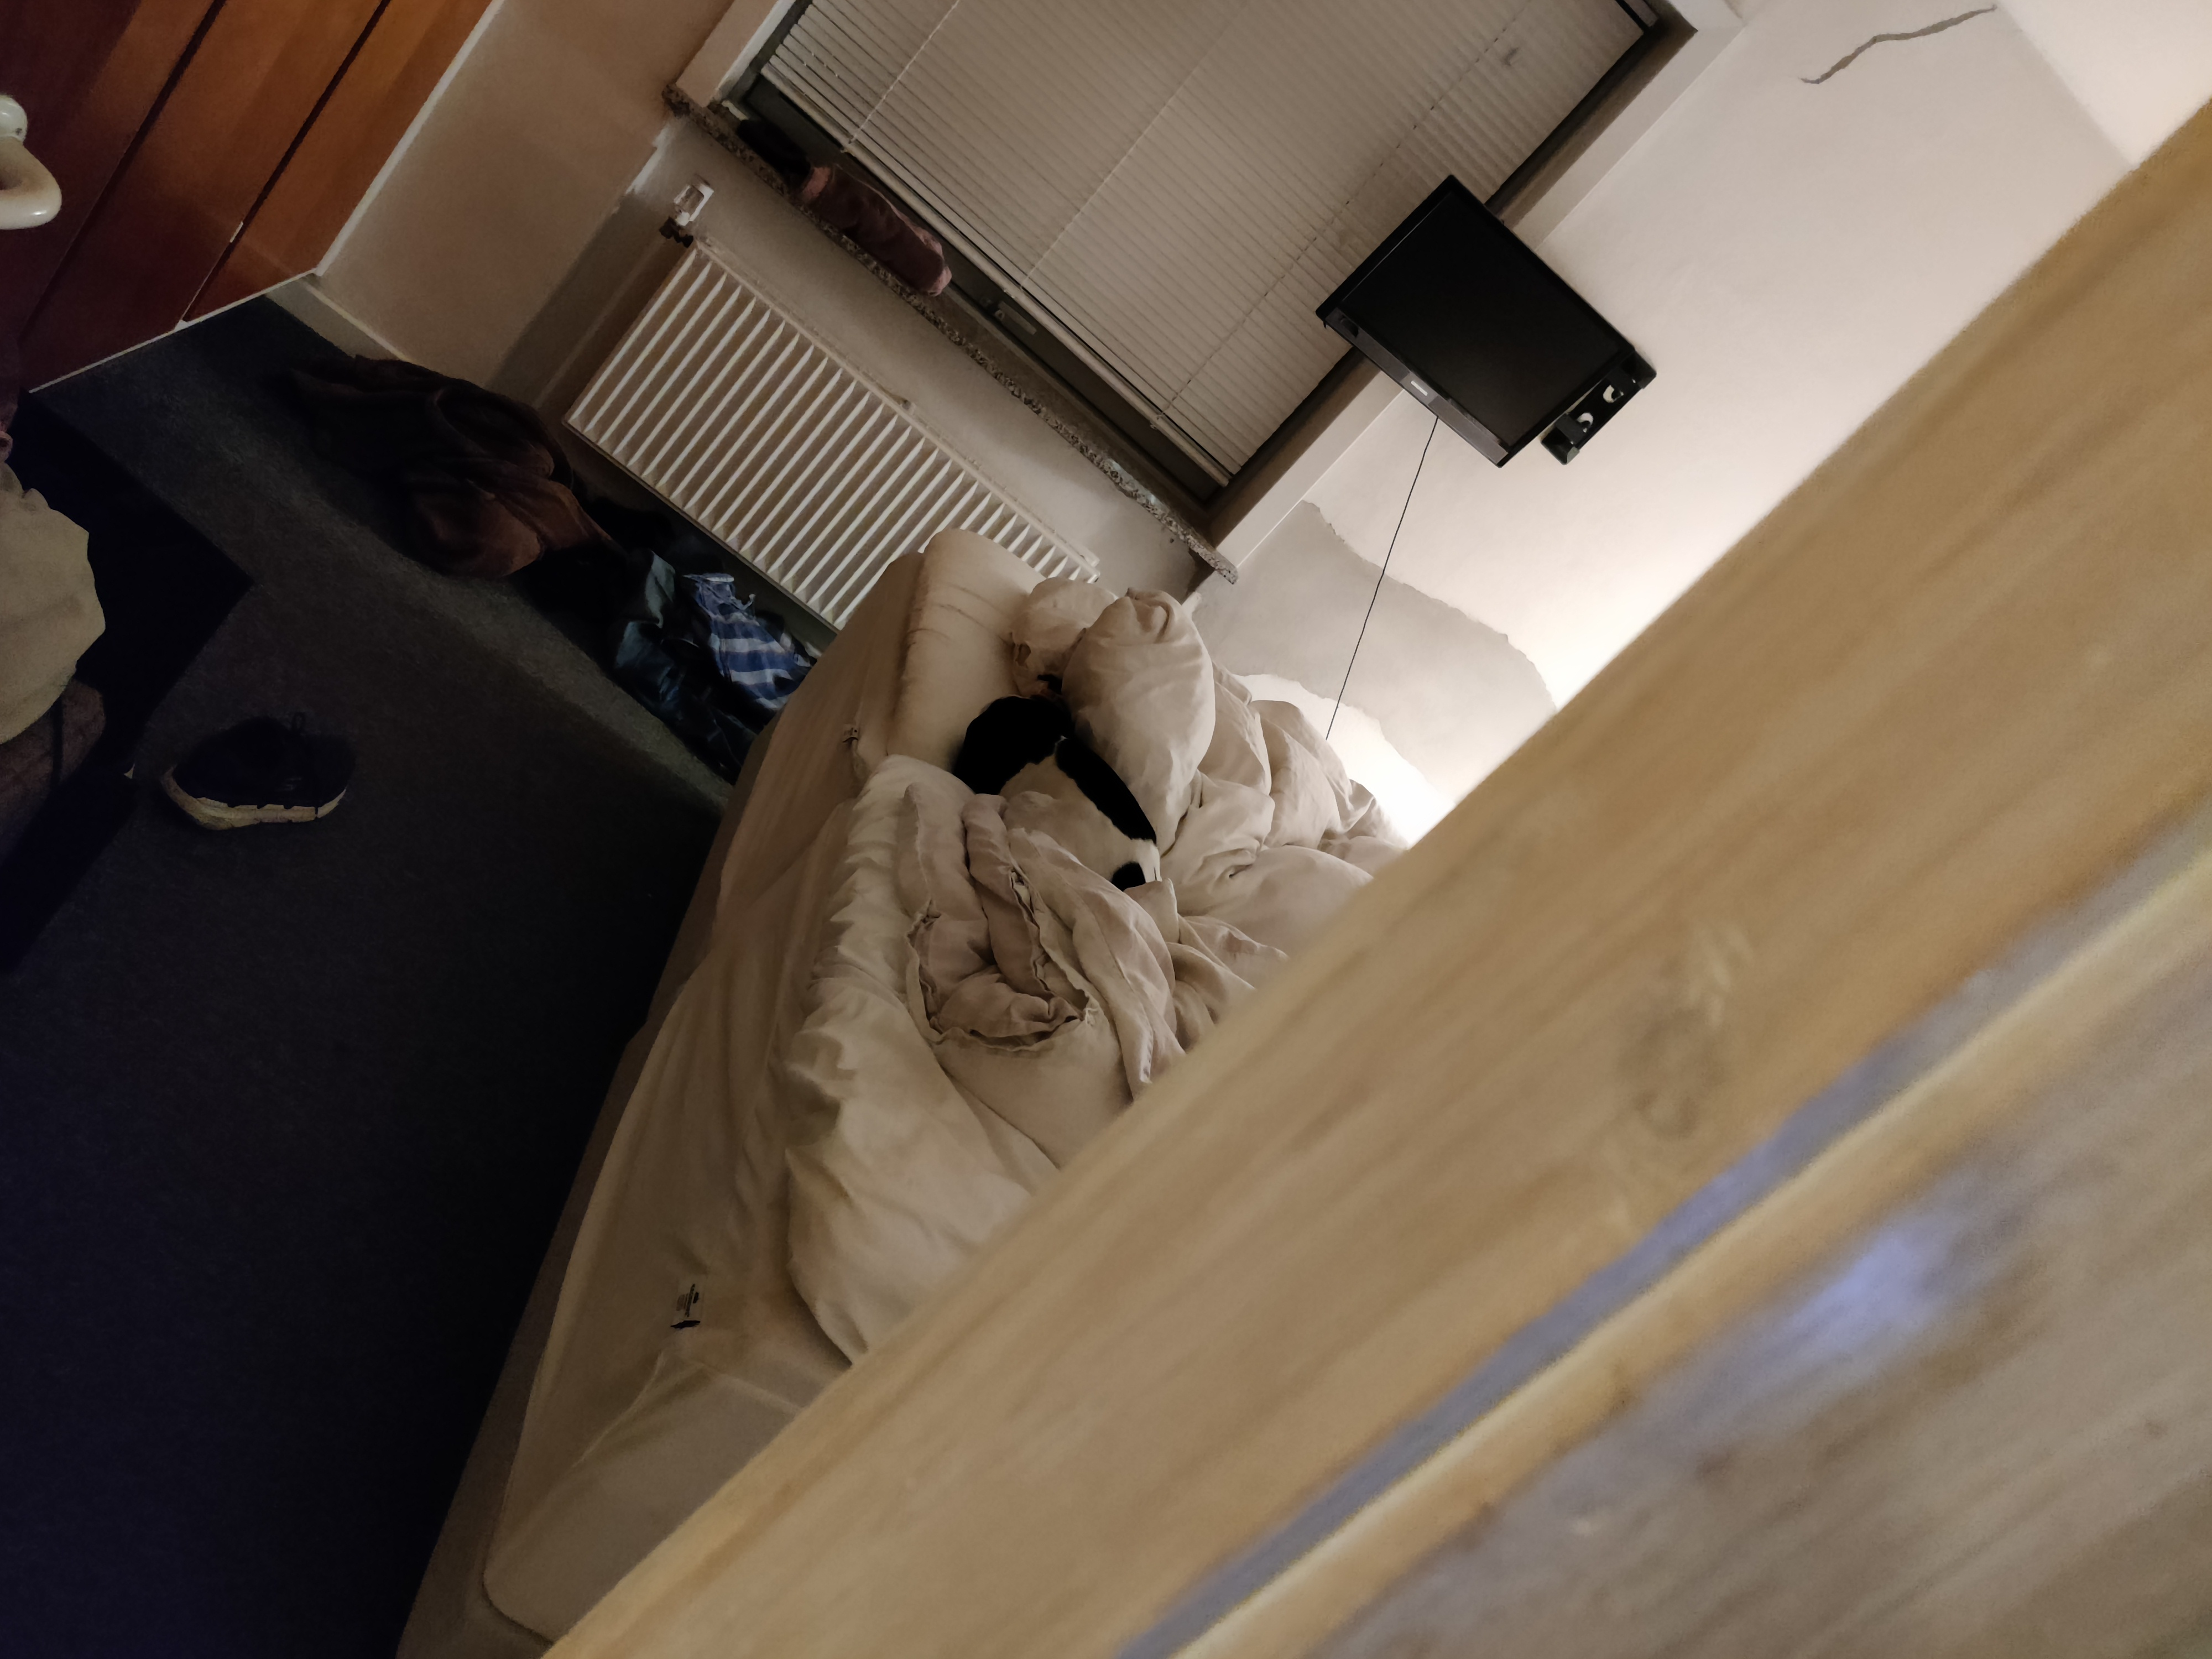Dog: (951, 669, 1172, 906)
